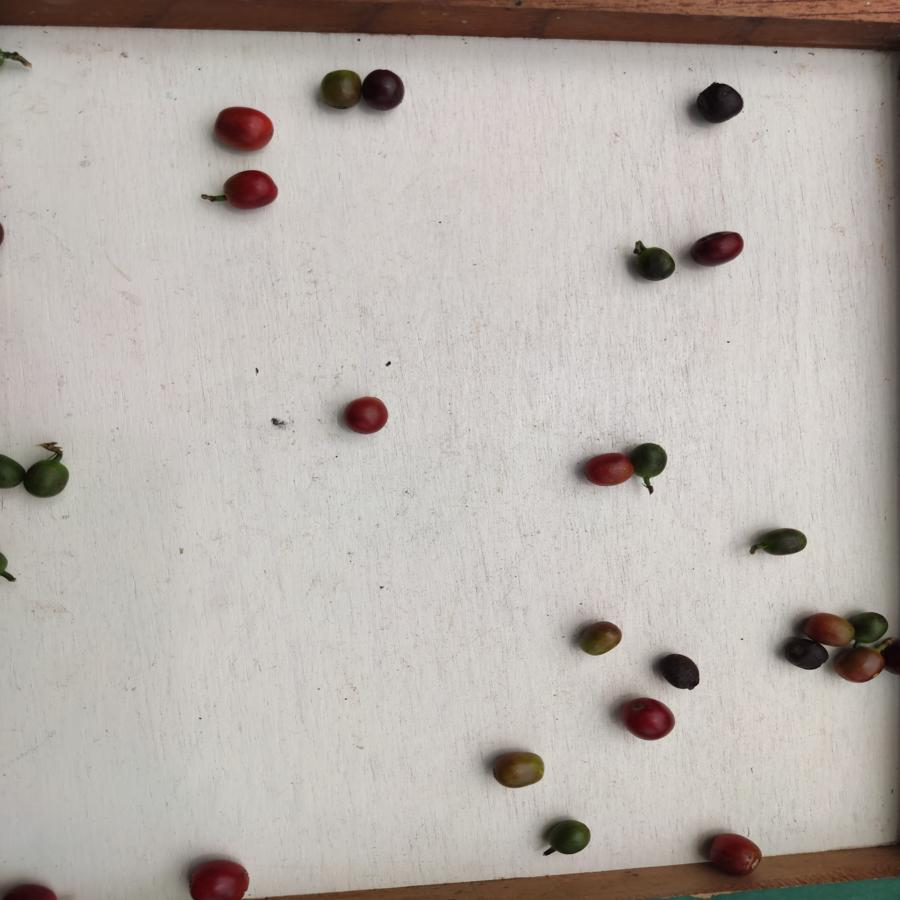Inmaduro: (752, 523, 806, 562), (22, 459, 72, 500), (631, 241, 676, 283), (545, 819, 592, 857), (631, 440, 670, 483), (855, 610, 889, 643), (1, 451, 25, 492)
Maduro: (214, 107, 278, 153), (705, 829, 762, 877), (185, 859, 251, 900), (222, 168, 278, 212), (622, 698, 676, 741), (343, 397, 389, 434), (585, 453, 632, 487)
Pinton: (834, 644, 887, 684), (491, 750, 546, 788), (320, 67, 362, 110), (799, 613, 853, 643), (578, 622, 622, 658)
Sobremaduro: (688, 228, 745, 266), (695, 79, 744, 123), (363, 68, 407, 112), (658, 652, 701, 691), (782, 637, 829, 669)
